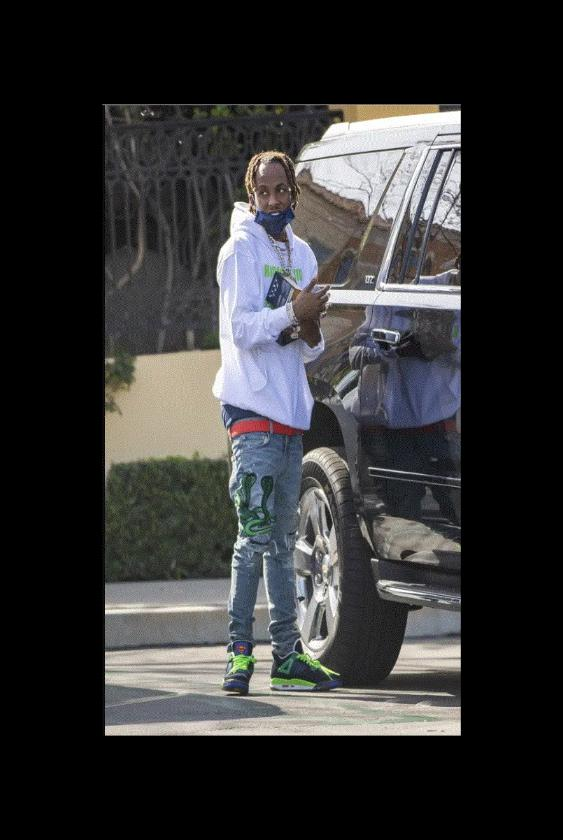mask_weared_incorrect: (256, 174, 291, 230)
